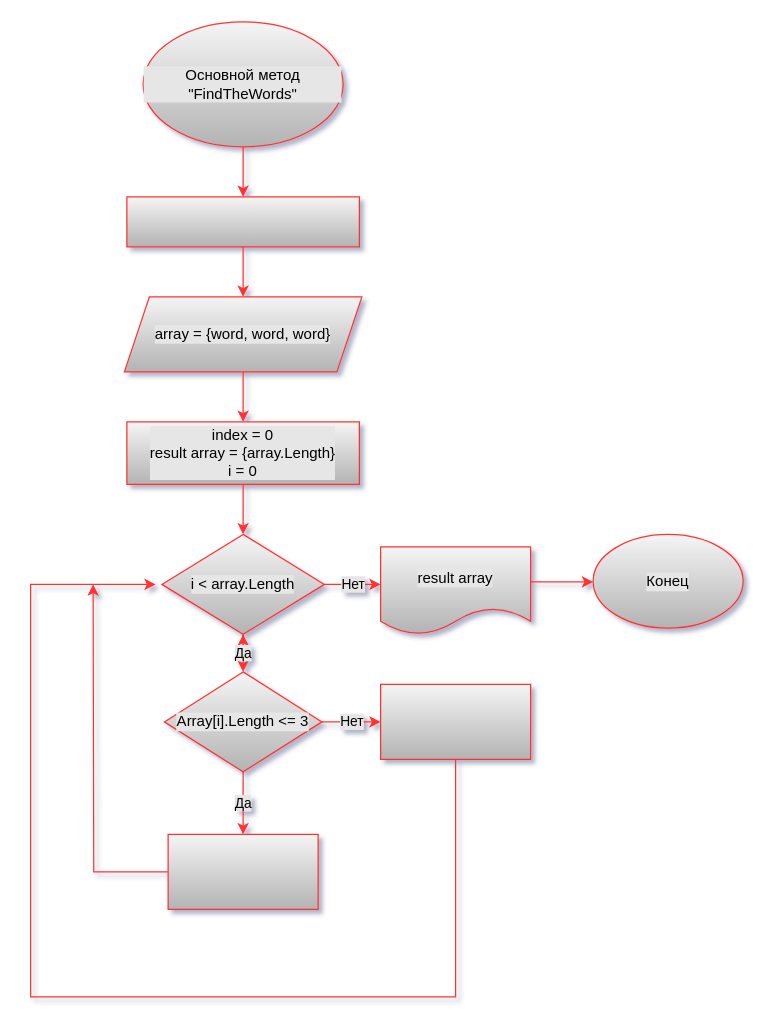
Image size: 773x1036. Some labels were removed from this diagram. The centre of each missing label's shape, as x and y in pixels:
array: pixel 242 221
i++: pixel 455 721
result[index] = array[i] index++ i++: pixel 242 871
